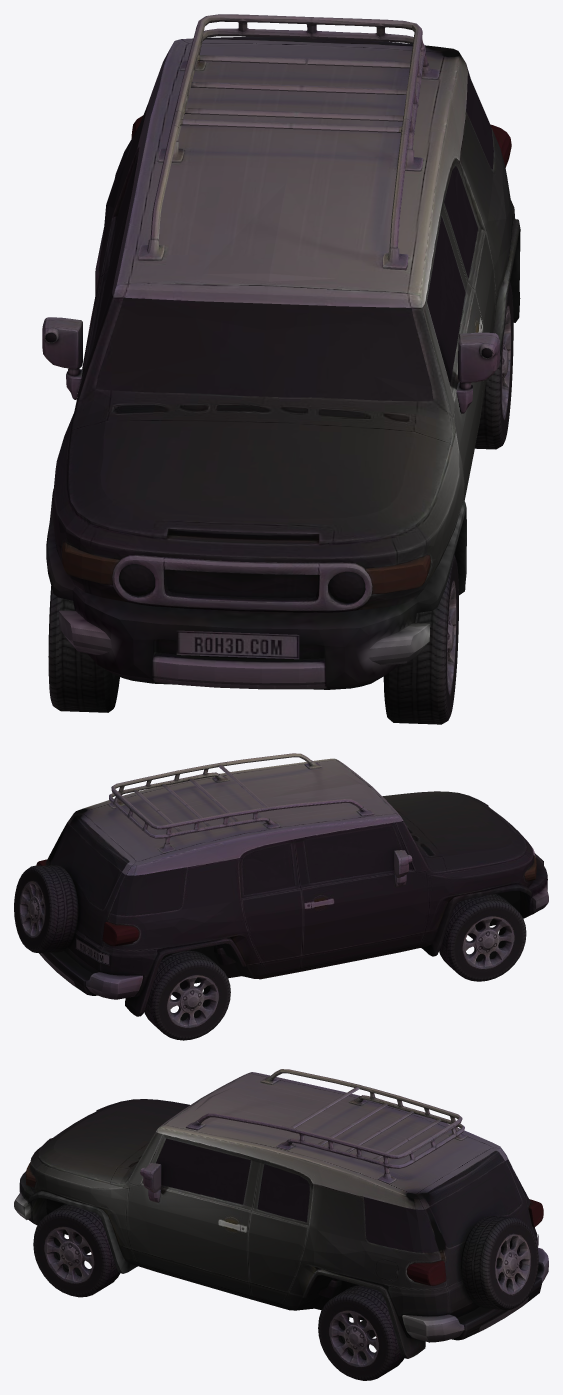
File: LOKI.glb
3 renders of one model, top to bottom at view 1: azimuth 30°, elevation 25°; view 2: azimuth 150°, elevation 25°; view 3: azimuth 270°, elevation 25°, orthographic. The views are drawn at different scales.
Parts seen in each view (by area): view 1: Object_4; view 2: Object_4; view 3: Object_4.
Part boxes in pixels (x1=…): Object_4: x1=42, y1=14, x2=520, y2=724; Object_4: x1=14, y1=753, x2=548, y2=1040; Object_4: x1=14, y1=1069, x2=548, y2=1380.
Bounding box in the file's own units: 3.38 × 1.76 × 4.
Materials: 1 (1 with a texture image).
